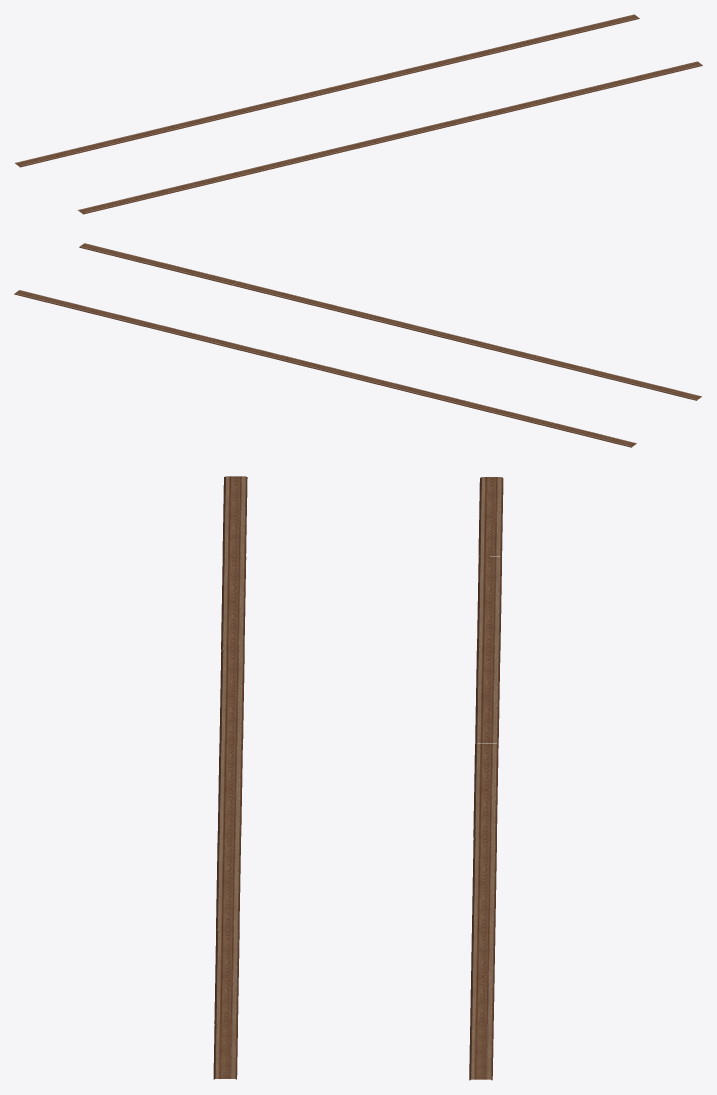
The model's file is Area_08_13.fbx.
The picture shows the model from 3 angles, top to bottom: view 1: azimuth 30°, elevation 25°; view 2: azimuth 150°, elevation 25°; view 3: azimuth 270°, elevation 25°; orthographic projection. The views are drawn at different scales.
Parts seen in each view (by area): view 1: Area_08_13; view 2: Area_08_13; view 3: Area_08_13.
Part boxes in pixels (box(x1,y1,x2,y2)): Area_08_13: box(15, 14, 702, 214); Area_08_13: box(14, 243, 701, 447); Area_08_13: box(213, 476, 503, 1080).
Size of the model in its own units: 4639 by 3.6 by 942.
